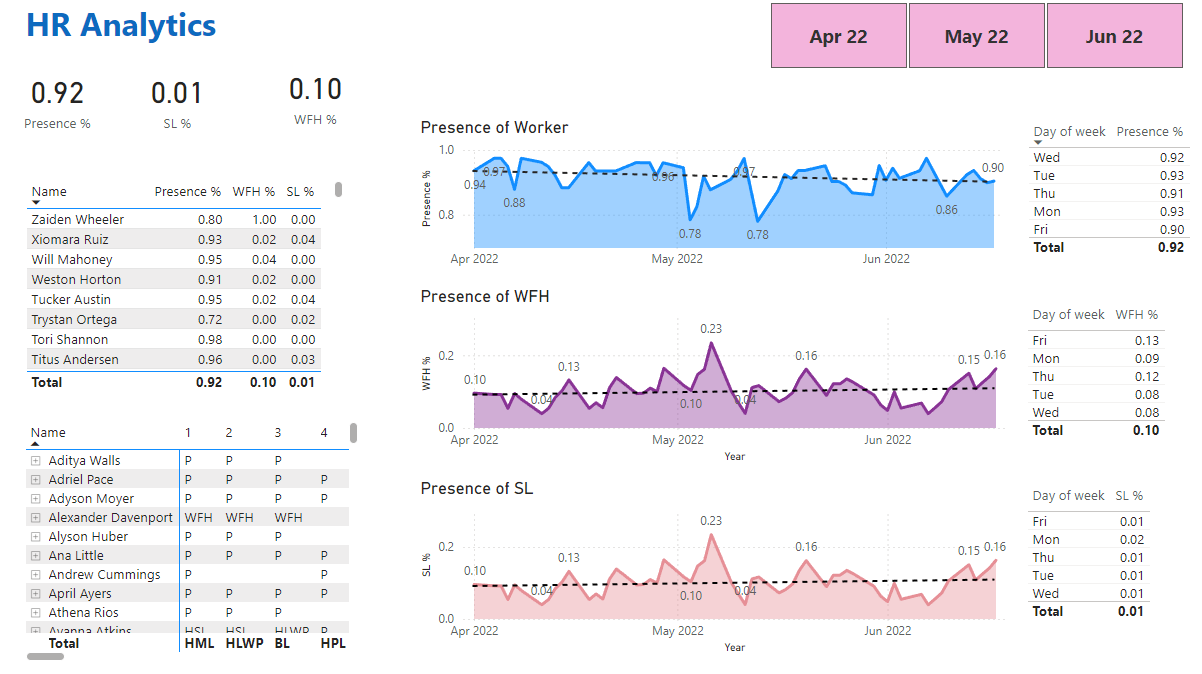

The dashboard page shown, as its layout file describes it:
{"tool":"powerbi","page":{"name":"Presence Overview","canvas":[1280,720],"ordinal":0},"visuals":[{"type":"card","fields":{"Values":["Measure Table (2).Presence %"]},"box":[16,78.8,104.8,98.8],"z":0},{"type":"slicer","fields":{"Values":["Final Data.Month"]},"box":[756.2,25.9,461.9,78.8],"z":1000},{"type":"card","fields":{"Values":["Measure Table (2).SL %"]},"box":[128.7,87.8,119.7,81.8],"z":2000},{"type":"card","fields":{"Values":["Measure Table (2).WFH %"]},"box":[267.4,87.8,118.7,73.8],"z":3000},{"type":"tableEx","fields":{"Values":["Final Data.Name","Measure Table (2).Presence %","Measure Table (2).WFH %","Measure Table (2).SL %"]},"box":[31.9,205.5,327.2,220.5],"z":4000},{"type":"textbox","box":[31.9,25.9,295.3,52.9],"z":5000},{"type":"pivotTable","fields":{"Rows":["Final Data.Name","Final Data.Date.Variation.Date Hierarchy.Year","Final Data.Date.Variation.Date Hierarchy.Quarter","Final Data.Date.Variation.Date Hierarchy.Month","Final Data.Date.Variation.Date Hierarchy.Day","Final Data.Date.Variation.Date Hierarchy.Day","Final Data.Month.Variation.Date Hierarchy.Year","Final Data.Month.Variation.Date Hierarchy.Quarter","Final Data.Month.Variation.Date Hierarchy.Month","Final Data.Month.Variation.Date Hierarchy.Day"],"Columns":["Final Data.Date.Variation.Date Hierarchy.Day"],"Values":["Final Data.Value"]},"box":[31.9,447,342.2,249.4],"z":6000},{"type":"areaChart","title":"Presence of Worker","fields":{"Category":["Final Data.Date.Variation.Date Hierarchy.Year","Final Data.Date.Variation.Date Hierarchy.Month","Final Data.Date.Variation.Date Hierarchy.Day"],"Y":["Measure Table (2).Presence %"]},"box":[427,146.7,606.6,160.6],"z":7000},{"type":"areaChart","title":"Presence of WFH","fields":{"Category":["Final Data.Date.Variation.Date Hierarchy.Year","Final Data.Date.Variation.Date Hierarchy.Month","Final Data.Date.Variation.Date Hierarchy.Day"],"Y":["Measure Table (2).WFH %"]},"box":[427,316.3,608.6,180.6],"z":8000},{"type":"areaChart","title":"Presence of SL","fields":{"Category":["Final Data.Date.Variation.Date Hierarchy.Year","Final Data.Date.Variation.Date Hierarchy.Month","Final Data.Date.Variation.Date Hierarchy.Day"],"Y":["Measure Table (2).WFH %"]},"box":[427,507.8,608.6,180.6],"z":9000},{"type":"tableEx","fields":{"Values":["Final Data.Day of week","Measure Table (2).Presence %"]},"box":[1033.6,146.7,198.5,169.6],"z":10000},{"type":"tableEx","fields":{"Values":["Final Data.Day of week","Measure Table (2).WFH %"]},"box":[1032.6,330.2,157.6,166.6],"z":11000},{"type":"tableEx","fields":{"Values":["Final Data.Day of week","Measure Table (2).SL %"]},"box":[1032.6,510.8,230.5,177.6],"z":12000}]}

Visuals, with their boxes in screenshot pixels (x1, y1, x2, y2), scaled from the page's 1280x720 canvas onto the 1202x674 screenshot:
card - Measure Table (2).Presence %: crop(15, 74, 113, 166)
slicer - Final Data.Month: crop(710, 24, 1144, 98)
card - Measure Table (2).SL %: crop(121, 82, 233, 159)
card - Measure Table (2).WFH %: crop(251, 82, 363, 151)
tableEx - Final Data.Name x Measure Table (2).Presence %: crop(30, 192, 337, 399)
textbox: crop(30, 24, 307, 74)
pivotTable - Final Data.Name x Final Data.Date.Variation.Date Hierarchy.Year: crop(30, 418, 351, 652)
"Presence of Worker" areaChart: crop(401, 137, 971, 288)
"Presence of WFH" areaChart: crop(401, 296, 972, 465)
"Presence of SL" areaChart: crop(401, 475, 972, 644)
tableEx - Final Data.Day of week x Measure Table (2).Presence %: crop(971, 137, 1157, 296)
tableEx - Final Data.Day of week x Measure Table (2).WFH %: crop(970, 309, 1118, 465)
tableEx - Final Data.Day of week x Measure Table (2).SL %: crop(970, 478, 1186, 644)
